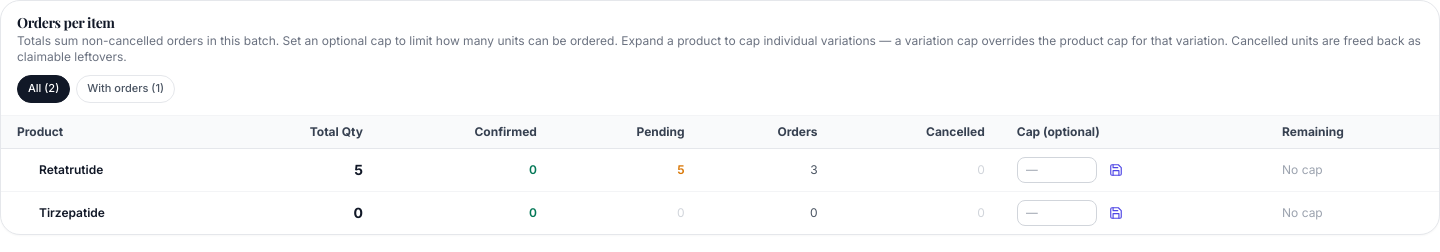
CapsProgressTable order filter › restores all products when switching back to the "all" filter
Click the button "With orders (1)": (126, 89) [76,75,175,103]
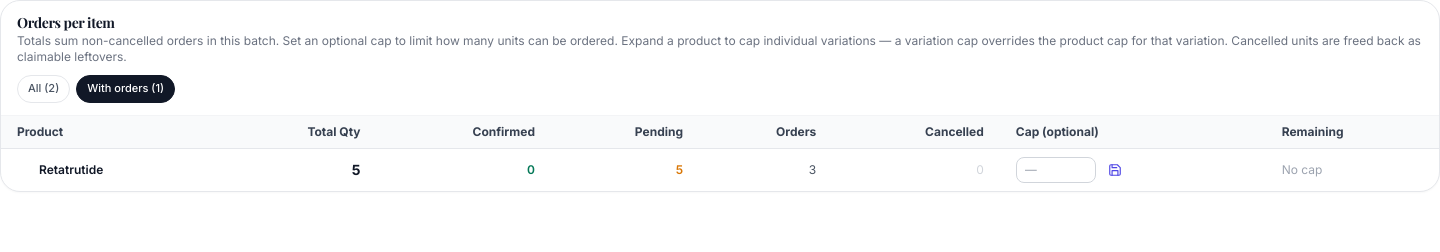
Click the button "All (2)": (44, 89) [17,75,70,103]
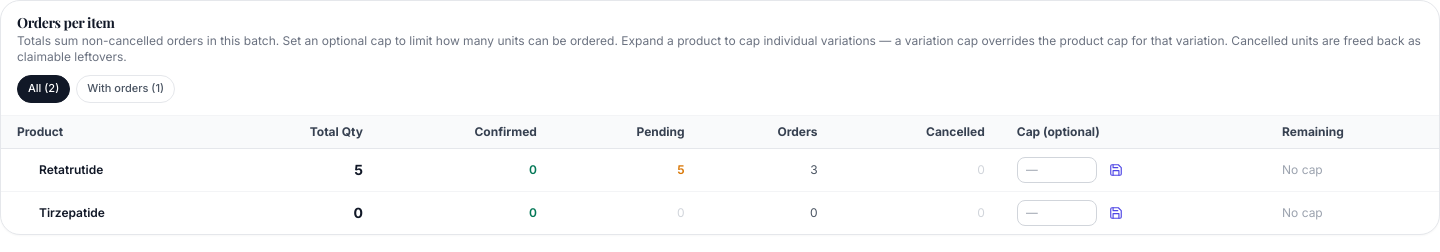
Expected: the text "Tirzepatide" is shown, [39,205,105,220]
